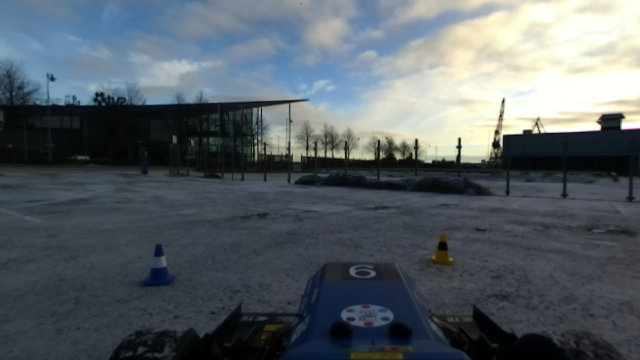blue: (135, 242, 177, 288)
yellow: (428, 231, 454, 264)
